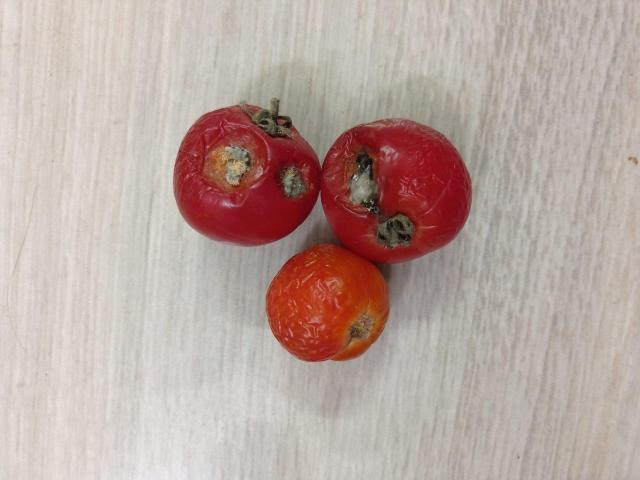defect: (170, 98, 323, 249), (321, 115, 474, 264), (265, 241, 391, 365)
